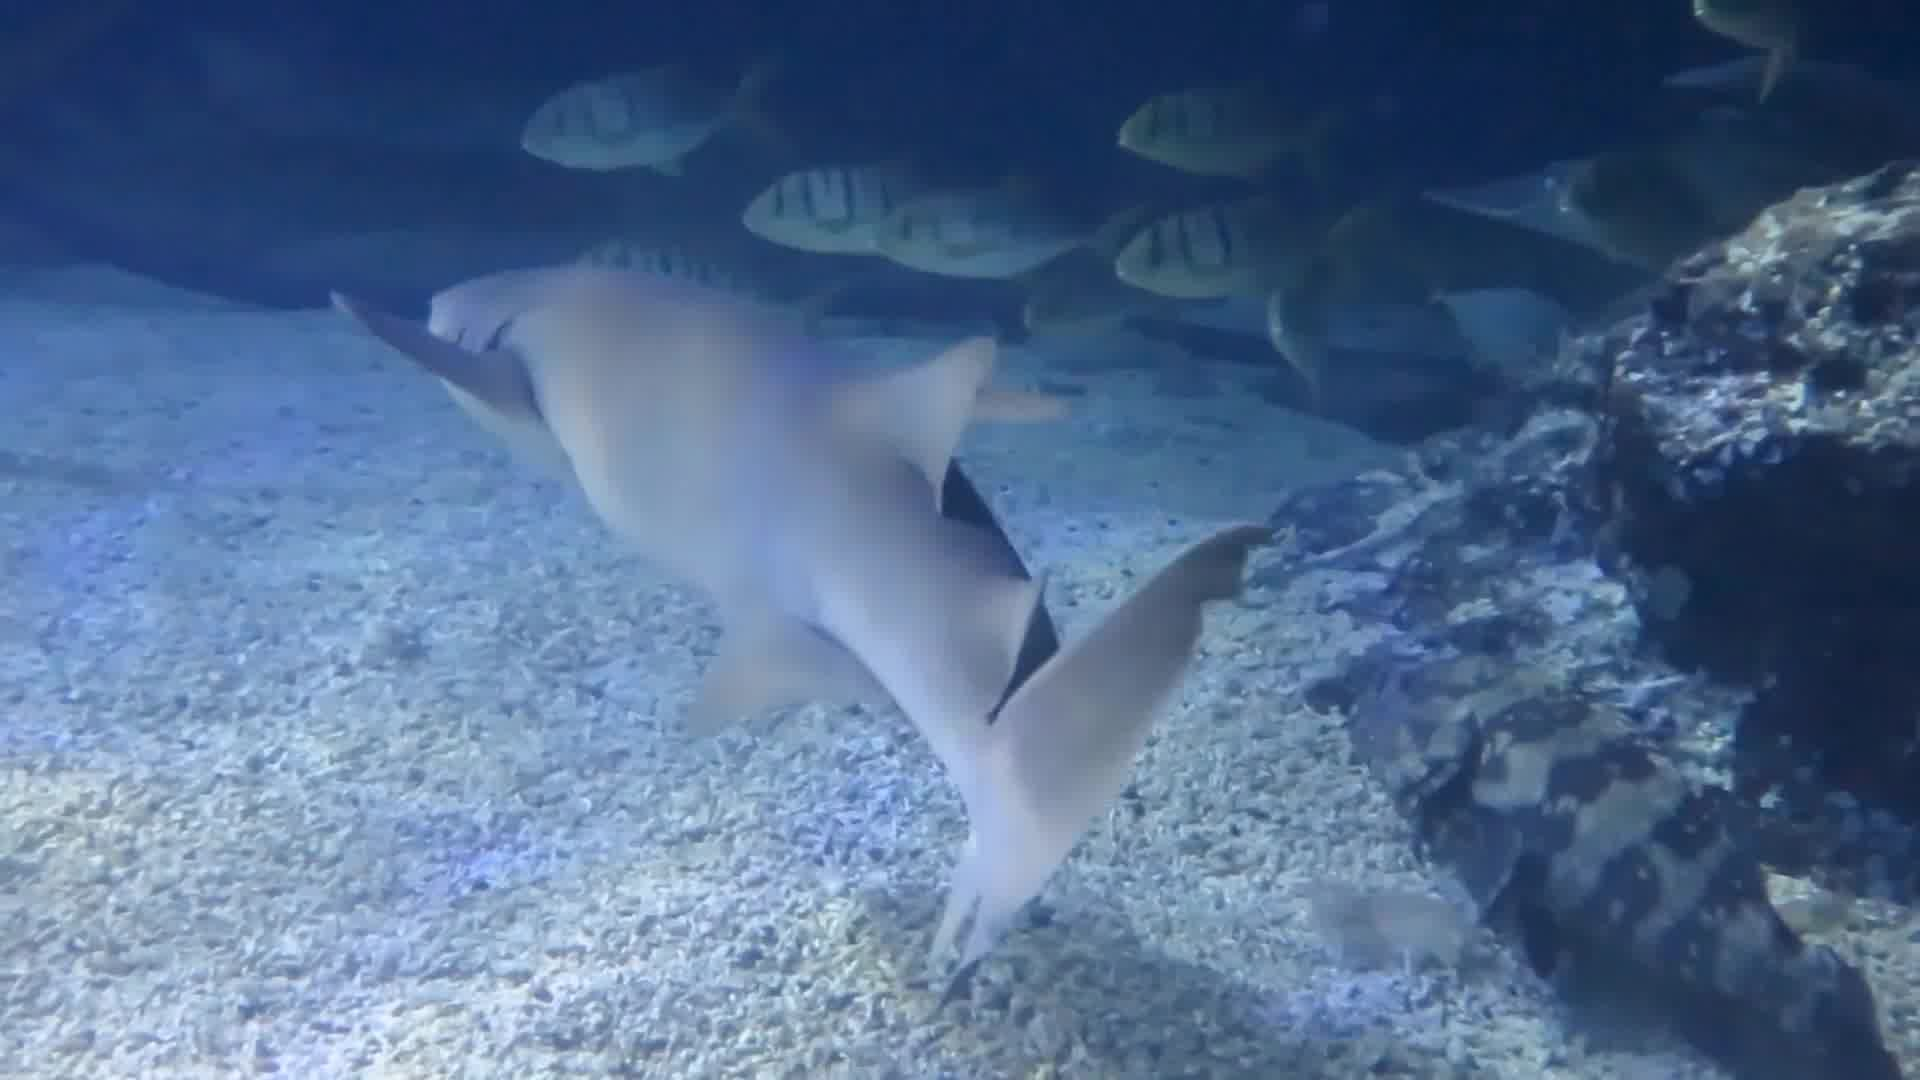Nebrius ferrugineus: (371, 257, 1122, 851)
